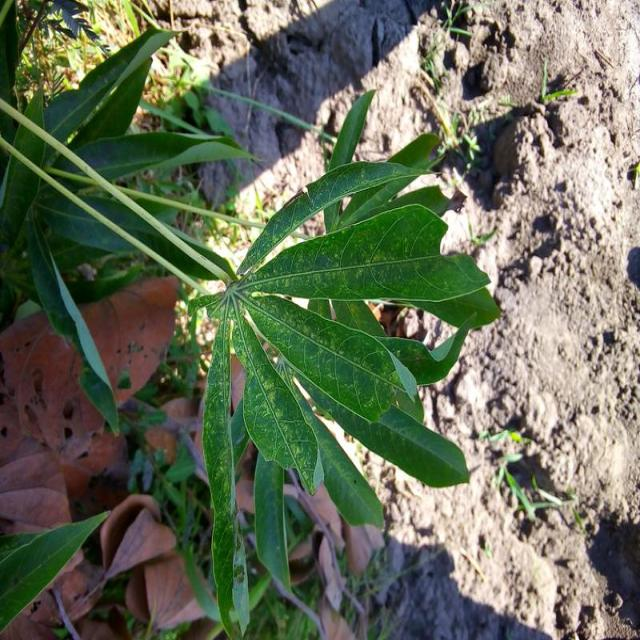cassava leaf: (1, 20, 502, 637)
